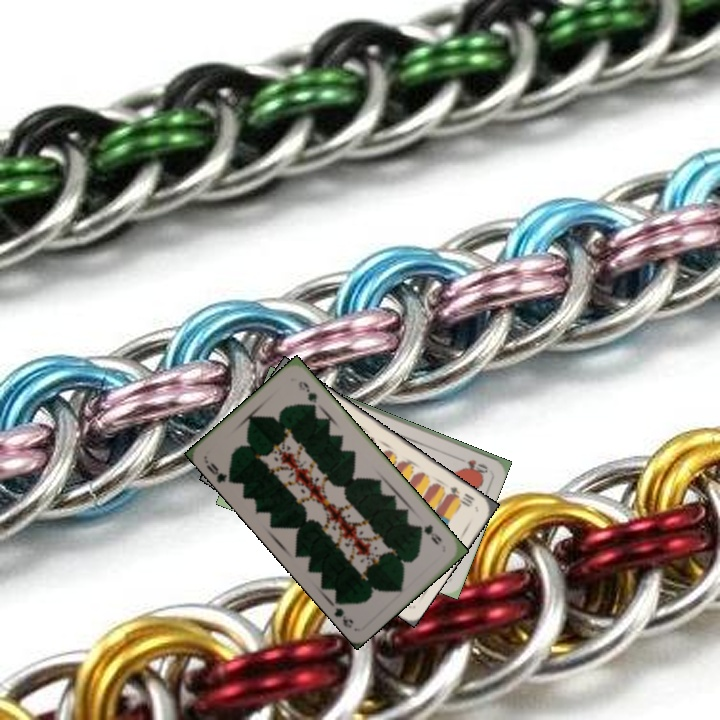E10: (443, 482, 477, 510)
G9: (201, 456, 235, 485), (415, 521, 444, 548)
HO: (463, 455, 491, 476)
